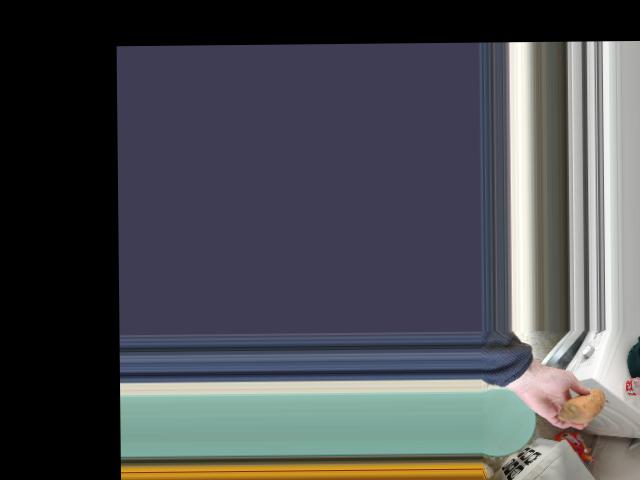sweet_potato: (564, 391, 605, 423)
